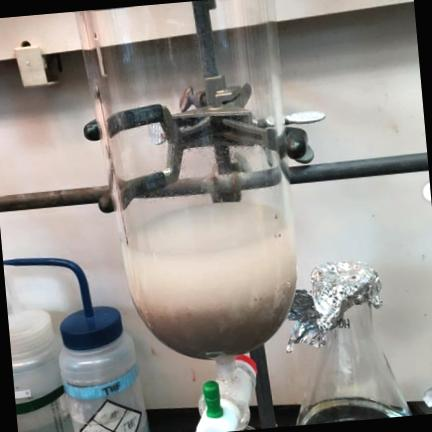container: (76, 0, 296, 359)
fluid: (128, 233, 296, 354)
fluid-surface: (130, 202, 288, 255)
